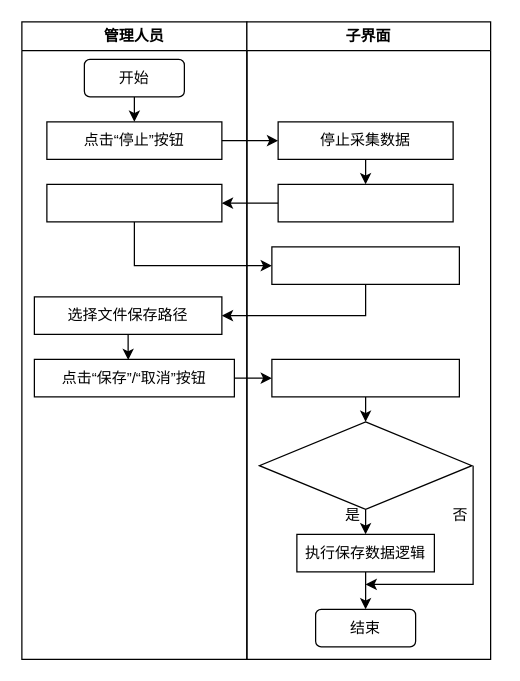
The diagram is 520 pixels wide and 681 high, and some of its shapes have lost their labels. Here are the shapes that lost their labels. From the top down, the centre of each, then its label:
At (x=134, y=202): "点击“保存数据”按钮".
At (x=365, y=202): "使能“ 保存 ”按钮".
At (x=365, y=265): "弹出文件保存对话框".
At (x=365, y=377): "关闭文件保存对话框".
At (x=365, y=465): "用户是否点击“保存”按钮".
